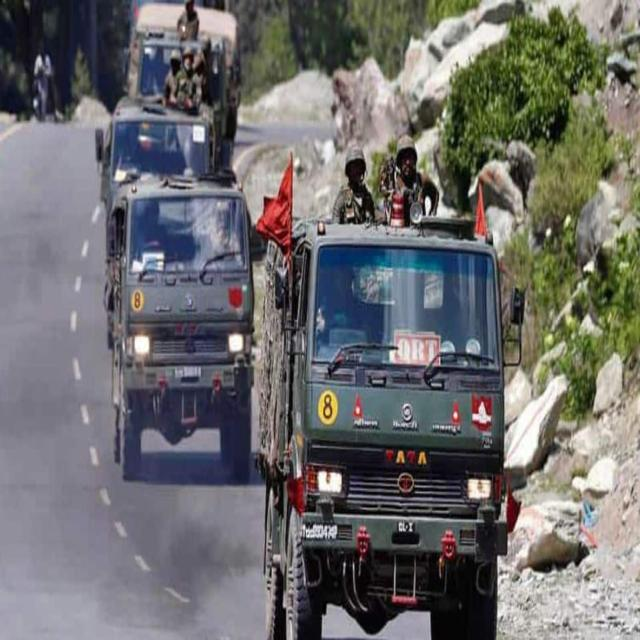truck: (258, 218, 509, 639), (105, 178, 254, 482), (128, 0, 241, 169), (95, 98, 214, 212)
